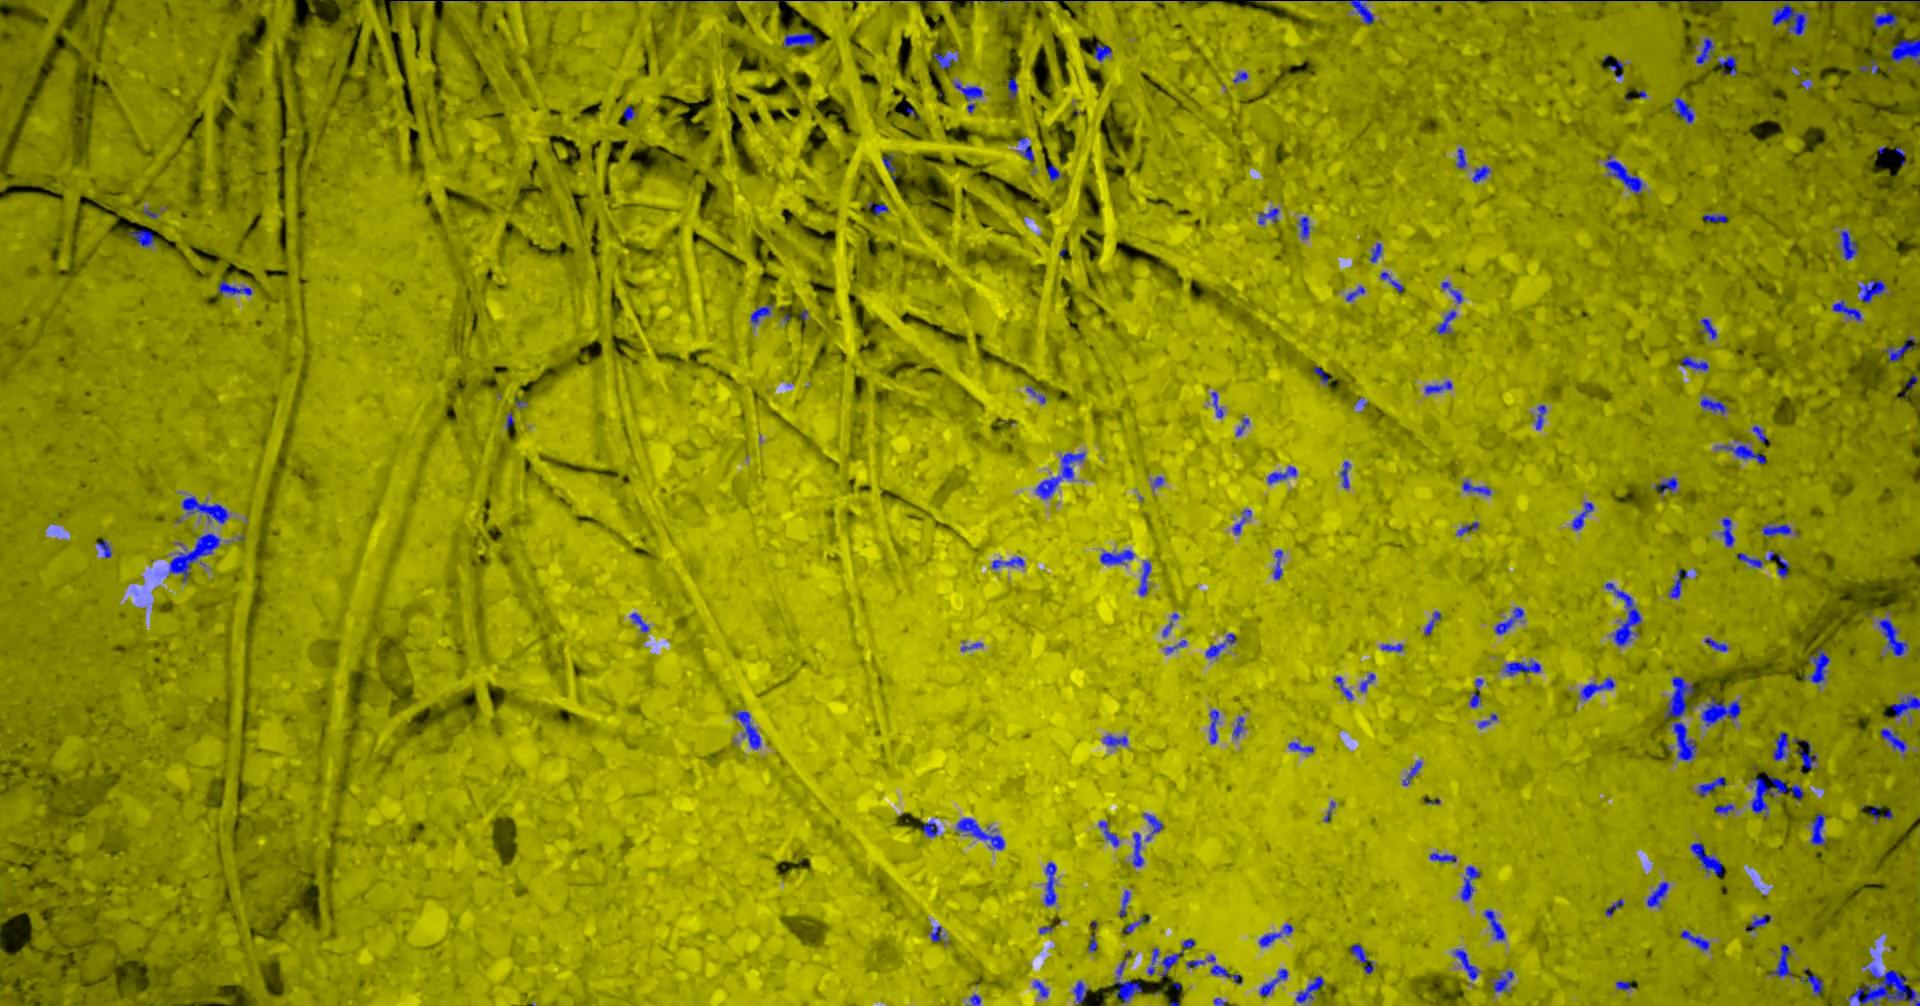ant: (168, 532, 220, 580), (1604, 582, 1641, 645), (1035, 452, 1084, 498), (1750, 774, 1803, 813), (1112, 949, 1142, 1005), (1186, 954, 1242, 983), (955, 817, 1004, 848), (1604, 154, 1642, 193), (1159, 937, 1194, 977), (182, 495, 229, 523), (1771, 0, 1806, 36), (1700, 696, 1740, 725), (1878, 619, 1907, 655), (1690, 842, 1722, 875), (731, 711, 759, 748), (1714, 445, 1766, 464), (1804, 647, 1829, 685), (952, 81, 982, 112), (1792, 737, 1816, 774), (1258, 968, 1288, 996), (1295, 976, 1323, 1005), (1887, 38, 1919, 64), (1453, 948, 1478, 979), (1580, 677, 1614, 700), (1769, 942, 1792, 977), (1258, 923, 1291, 946), (1495, 607, 1523, 634), (1884, 337, 1915, 361), (1205, 633, 1236, 657), (1460, 865, 1481, 901), (1350, 942, 1373, 973), (1879, 728, 1905, 754), (1857, 279, 1884, 304), (1831, 298, 1862, 320), (1483, 909, 1505, 940), (1680, 929, 1709, 950), (1891, 695, 1919, 716), (1349, 0, 1373, 24), (1646, 882, 1669, 907), (1571, 502, 1592, 528), (1768, 550, 1789, 577), (1697, 776, 1724, 796), (1142, 812, 1162, 840), (1503, 659, 1540, 674), (1669, 569, 1688, 598), (1121, 915, 1150, 934), (1671, 97, 1693, 122), (1044, 861, 1057, 904), (1098, 549, 1133, 564), (1799, 974, 1823, 996), (1839, 230, 1857, 259), (1098, 821, 1119, 846), (782, 30, 815, 46), (218, 279, 251, 295), (1266, 466, 1297, 483), (1810, 812, 1825, 845), (1380, 271, 1403, 292), (932, 50, 957, 69), (1232, 508, 1251, 533), (1402, 760, 1421, 785), (1771, 730, 1788, 760), (1870, 11, 1897, 29), (1695, 37, 1713, 64), (1743, 913, 1770, 931), (1441, 281, 1462, 304), (1436, 310, 1455, 334), (1333, 676, 1352, 700), (1719, 517, 1735, 546), (1761, 521, 1790, 536), (750, 304, 772, 324), (1491, 970, 1512, 991), (1138, 560, 1150, 594), (130, 229, 154, 246), (1700, 395, 1724, 413), (1462, 480, 1490, 495), (1681, 354, 1708, 370), (1161, 614, 1178, 636), (1131, 832, 1143, 866), (990, 556, 1023, 568), (1423, 611, 1440, 634), (1469, 678, 1482, 708), (1017, 136, 1032, 160), (1703, 636, 1727, 652), (630, 612, 648, 633), (1699, 318, 1716, 339), (883, 152, 895, 180), (1423, 380, 1451, 392), (1737, 553, 1763, 567), (1655, 478, 1677, 493), (1718, 55, 1736, 74), (1073, 981, 1087, 1005), (1257, 207, 1277, 224), (1087, 920, 1097, 951), (1147, 948, 1158, 976), (1093, 43, 1111, 61), (1345, 285, 1364, 301), (1359, 673, 1375, 692), (1272, 549, 1283, 579), (1211, 391, 1223, 418), (1209, 709, 1218, 743), (1117, 889, 1129, 916), (1457, 521, 1478, 535), (1164, 639, 1186, 653), (1472, 165, 1490, 182), (1605, 898, 1623, 915), (1608, 58, 1623, 77), (1313, 365, 1328, 384), (1026, 387, 1045, 403), (1534, 404, 1545, 429), (95, 539, 110, 558), (1478, 713, 1497, 728), (1102, 734, 1128, 746), (1288, 741, 1313, 752), (1858, 58, 1878, 72), (867, 201, 888, 215), (1429, 852, 1457, 862), (921, 821, 937, 837), (927, 925, 943, 941), (1032, 979, 1048, 997), (1006, 76, 1017, 99), (1298, 216, 1309, 239), (1338, 461, 1349, 486), (1752, 426, 1768, 442), (1369, 243, 1382, 262), (1232, 716, 1243, 737), (1702, 213, 1727, 222), (1714, 803, 1733, 814), (1046, 164, 1059, 180), (1382, 643, 1403, 652), (1457, 147, 1465, 168), (1615, 981, 1636, 989), (623, 105, 634, 121), (966, 995, 980, 1005), (1657, 0, 1723, 1), (1855, 0, 1919, 1)
